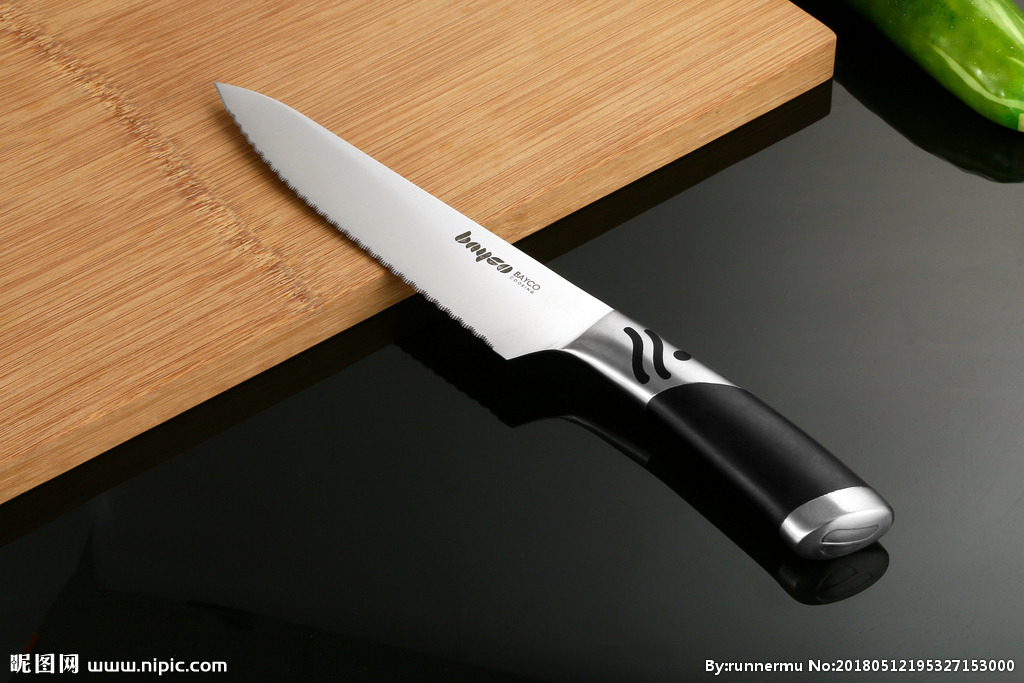knief: (201, 71, 903, 561)
